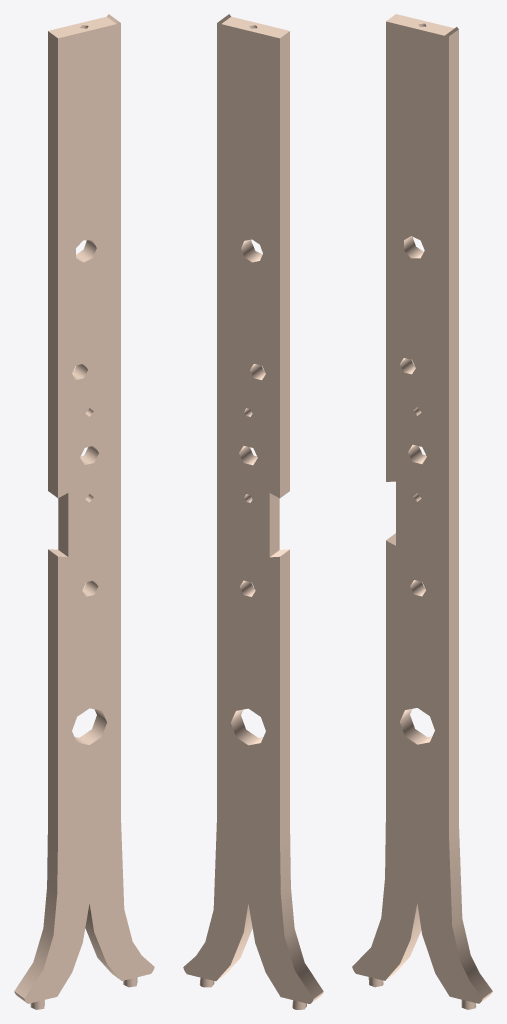
Rendered from Pilier Mouvement_avant.obj.
3 views of the same model, side by side, from view 1: azimuth 30°, elevation 25°; view 2: azimuth 150°, elevation 25°; view 3: azimuth 330°, elevation 25° (orthographic).
Parts seen in each view (by area): view 1: Face_15, Face_1, Face_12, Face_11, Face_32, Face_13, Face_27, Face_8; view 2: Face_14, Face_1, Face_12, Face_11, Face_32, Face_13, Face_27, Face_8; view 3: Face_15, Face_5, Face_6, Face_13, Face_27, Face_9.
Boxes of the visible parts, x1,y1,x2,y2 form: Face_15: (24, 21, 154, 1003); Face_1: (48, 31, 57, 497); Face_12: (48, 549, 57, 835); Face_11: (14, 828, 57, 998); Face_32: (58, 493, 68, 556); Face_13: (48, 16, 115, 38); Face_27: (74, 709, 106, 744); Face_8: (85, 904, 121, 980); Face_14: (183, 22, 313, 1003); Face_1: (280, 31, 289, 497); Face_12: (280, 549, 289, 835); Face_11: (280, 829, 323, 998); Face_32: (269, 493, 279, 556); Face_13: (222, 16, 289, 38); Face_27: (231, 709, 263, 745); Face_8: (217, 904, 252, 980); Face_15: (352, 21, 482, 1003); Face_5: (449, 30, 458, 834); Face_6: (449, 828, 492, 998); Face_13: (386, 14, 453, 35); Face_27: (400, 709, 432, 744); Face_9: (386, 903, 421, 979).
Bounding box in the file's own units: 0.0445 × 0.3166 × 0.006.
